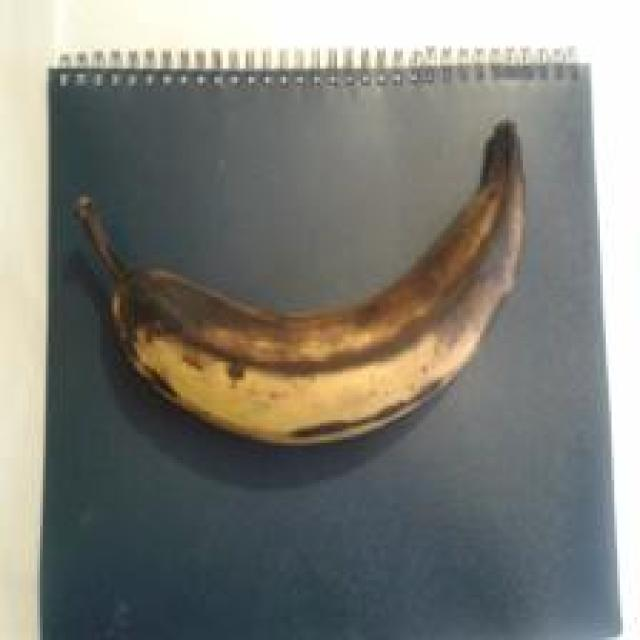Rotten_Banana: (50, 156, 612, 464)
